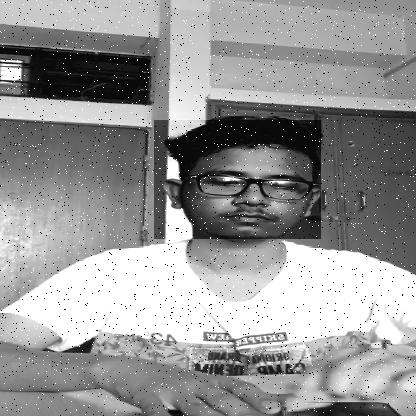Normal: (154, 120, 321, 239)
